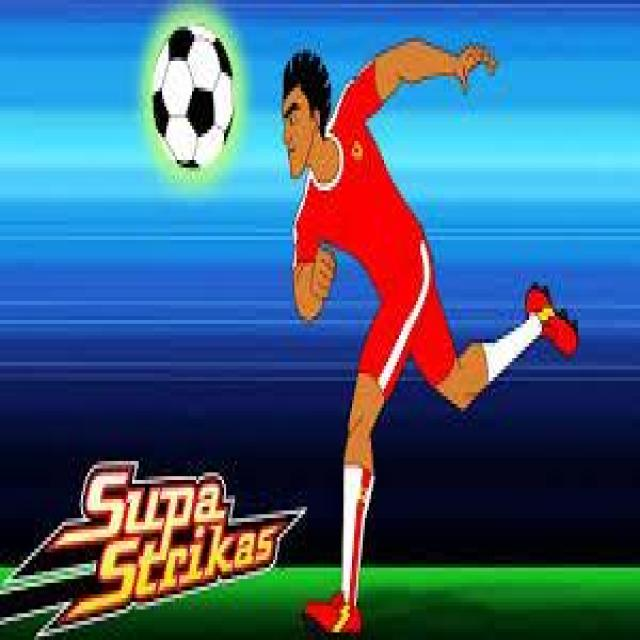Soccer Ball: (154, 27, 232, 172)
